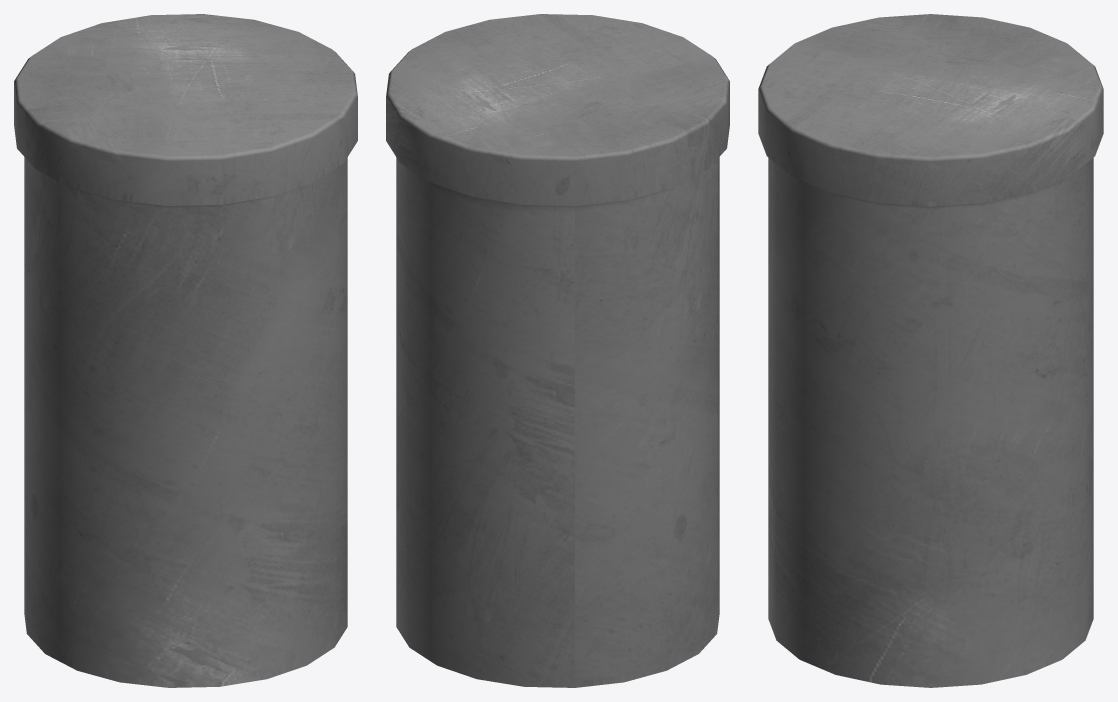
File: dustbin.fbx
3 renders of one model, left to right at view 1: azimuth 30°, elevation 25°; view 2: azimuth 150°, elevation 25°; view 3: azimuth 270°, elevation 25°, orthographic.
Visible parts, largest first — view 1: dustbin; view 2: dustbin; view 3: dustbin.
Part boxes in pixels (<box>): dustbin: <box>14,14,357,687</box>; dustbin: <box>386,14,729,687</box>; dustbin: <box>758,14,1103,687</box>.
Size of the model in its own units: 35.46 by 60.53 by 35.46.
Materials: 1 (1 with a texture image).
